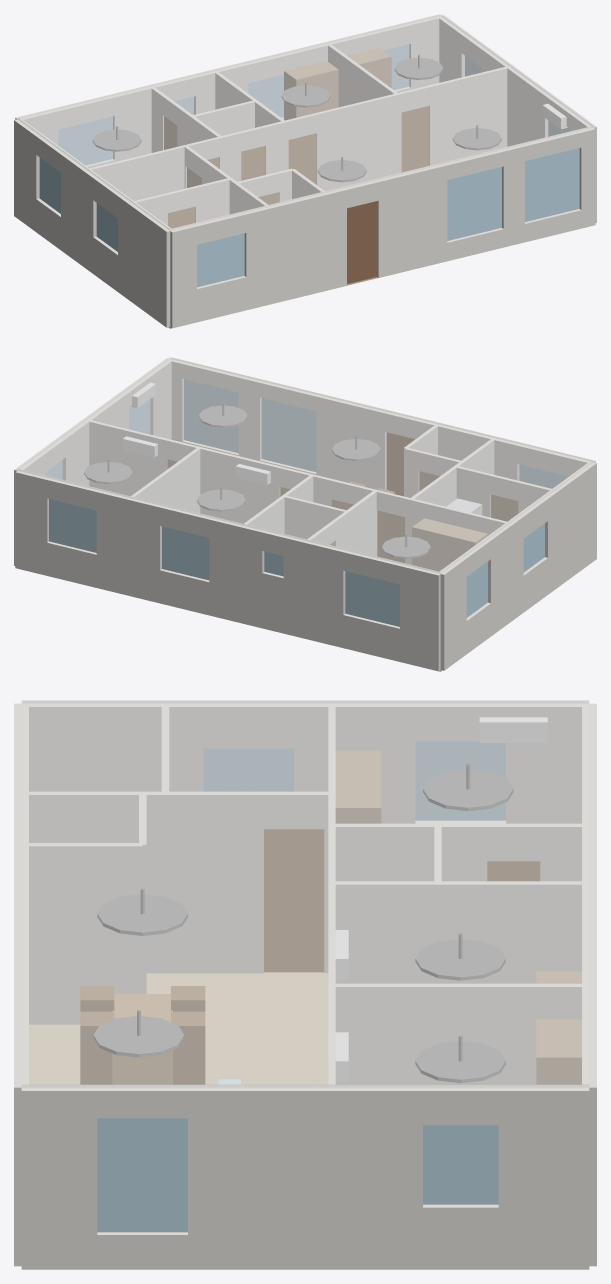
File: hdb_4room.glb
3 views of the same model, one above another, from view 1: azimuth 30°, elevation 25°; view 2: azimuth 150°, elevation 25°; view 3: azimuth 270°, elevation 25° (orthographic). The views are drawn at different scales.
Parts seen in each view (by area): view 1: ceiling, wall_ext_south_3, wall_ext_south_5, wall_north_corridor_6, wall_north_corridor_8, wall_ext_west_6, wall_ext_west_3, window_living_1, window_living_2, wall_north_corridor_0, wall_ext_east_3, wall_ext_south_0 (+61 smaller); view 2: ceiling, wall_ext_north_9, wall_ext_north_3, wall_ext_north_6, wall_ext_west_6, wall_ext_south_5, wall_ext_north_0, wall_ext_west_3, wall_north_corridor_6, window_living_1, wall_ext_north_12, wall_north_corridor_8 (+61 smaller); view 3: ceiling, wall_ext_east_3, wall_kitchen_corridor_2, wall_bath_bedroom2_0, wall_bedroom2_bedroom3_0, wall_shelter_east_0, wall_ext_east_0, wall_ext_west_6, wall_ext_east_6, window_living_3, wall_ext_west_3, door_kitchen (+43 smaller).
Boxes of the visible parts, box(x1,y1,x2,y2) form: ceiling: box(18, 14, 592, 230); wall_ext_south_3: box(242, 187, 346, 310); wall_ext_south_5: box(375, 162, 447, 277); wall_north_corridor_6: box(315, 92, 401, 190); wall_north_corridor_8: box(428, 66, 509, 165); wall_ext_west_6: box(118, 194, 171, 327); wall_ext_west_3: box(61, 152, 99, 273); window_living_1: box(447, 167, 501, 240); window_living_2: box(525, 148, 579, 221); wall_north_corridor_0: box(86, 144, 191, 200); wall_ext_east_3: box(482, 48, 551, 146); wall_ext_south_0: box(169, 223, 196, 328); ceiling: box(18, 357, 592, 573); wall_ext_north_9: box(96, 489, 163, 603); wall_ext_north_3: box(283, 534, 346, 647); wall_ext_north_6: box(209, 517, 265, 628); wall_ext_west_6: box(541, 462, 596, 594); wall_ext_south_5: box(316, 393, 388, 489); wall_ext_north_0: box(400, 563, 442, 671); wall_ext_west_3: box(484, 515, 523, 636); wall_north_corridor_6: box(195, 446, 281, 523); window_living_1: box(261, 398, 316, 471); wall_ext_north_12: box(15, 470, 50, 575); wall_north_corridor_8: box(89, 420, 168, 496); ceiling: box(22, 700, 588, 1087); wall_ext_east_3: box(188, 1084, 422, 1269); wall_kitchen_corridor_2: box(21, 791, 263, 973); wall_bath_bedroom2_0: box(332, 881, 588, 983); wall_bedroom2_bedroom3_0: box(332, 983, 589, 1084); wall_shelter_east_0: box(22, 843, 142, 1024); wall_ext_east_0: box(498, 1084, 589, 1269); wall_ext_west_6: box(21, 700, 203, 791); wall_ext_east_6: box(21, 1084, 97, 1269); window_living_3: box(97, 1118, 187, 1232); wall_ext_west_3: box(294, 700, 415, 823); door_kitchen: box(264, 829, 324, 972).
Size of the model in its own units: 12.2 by 2.7 by 7.7.
